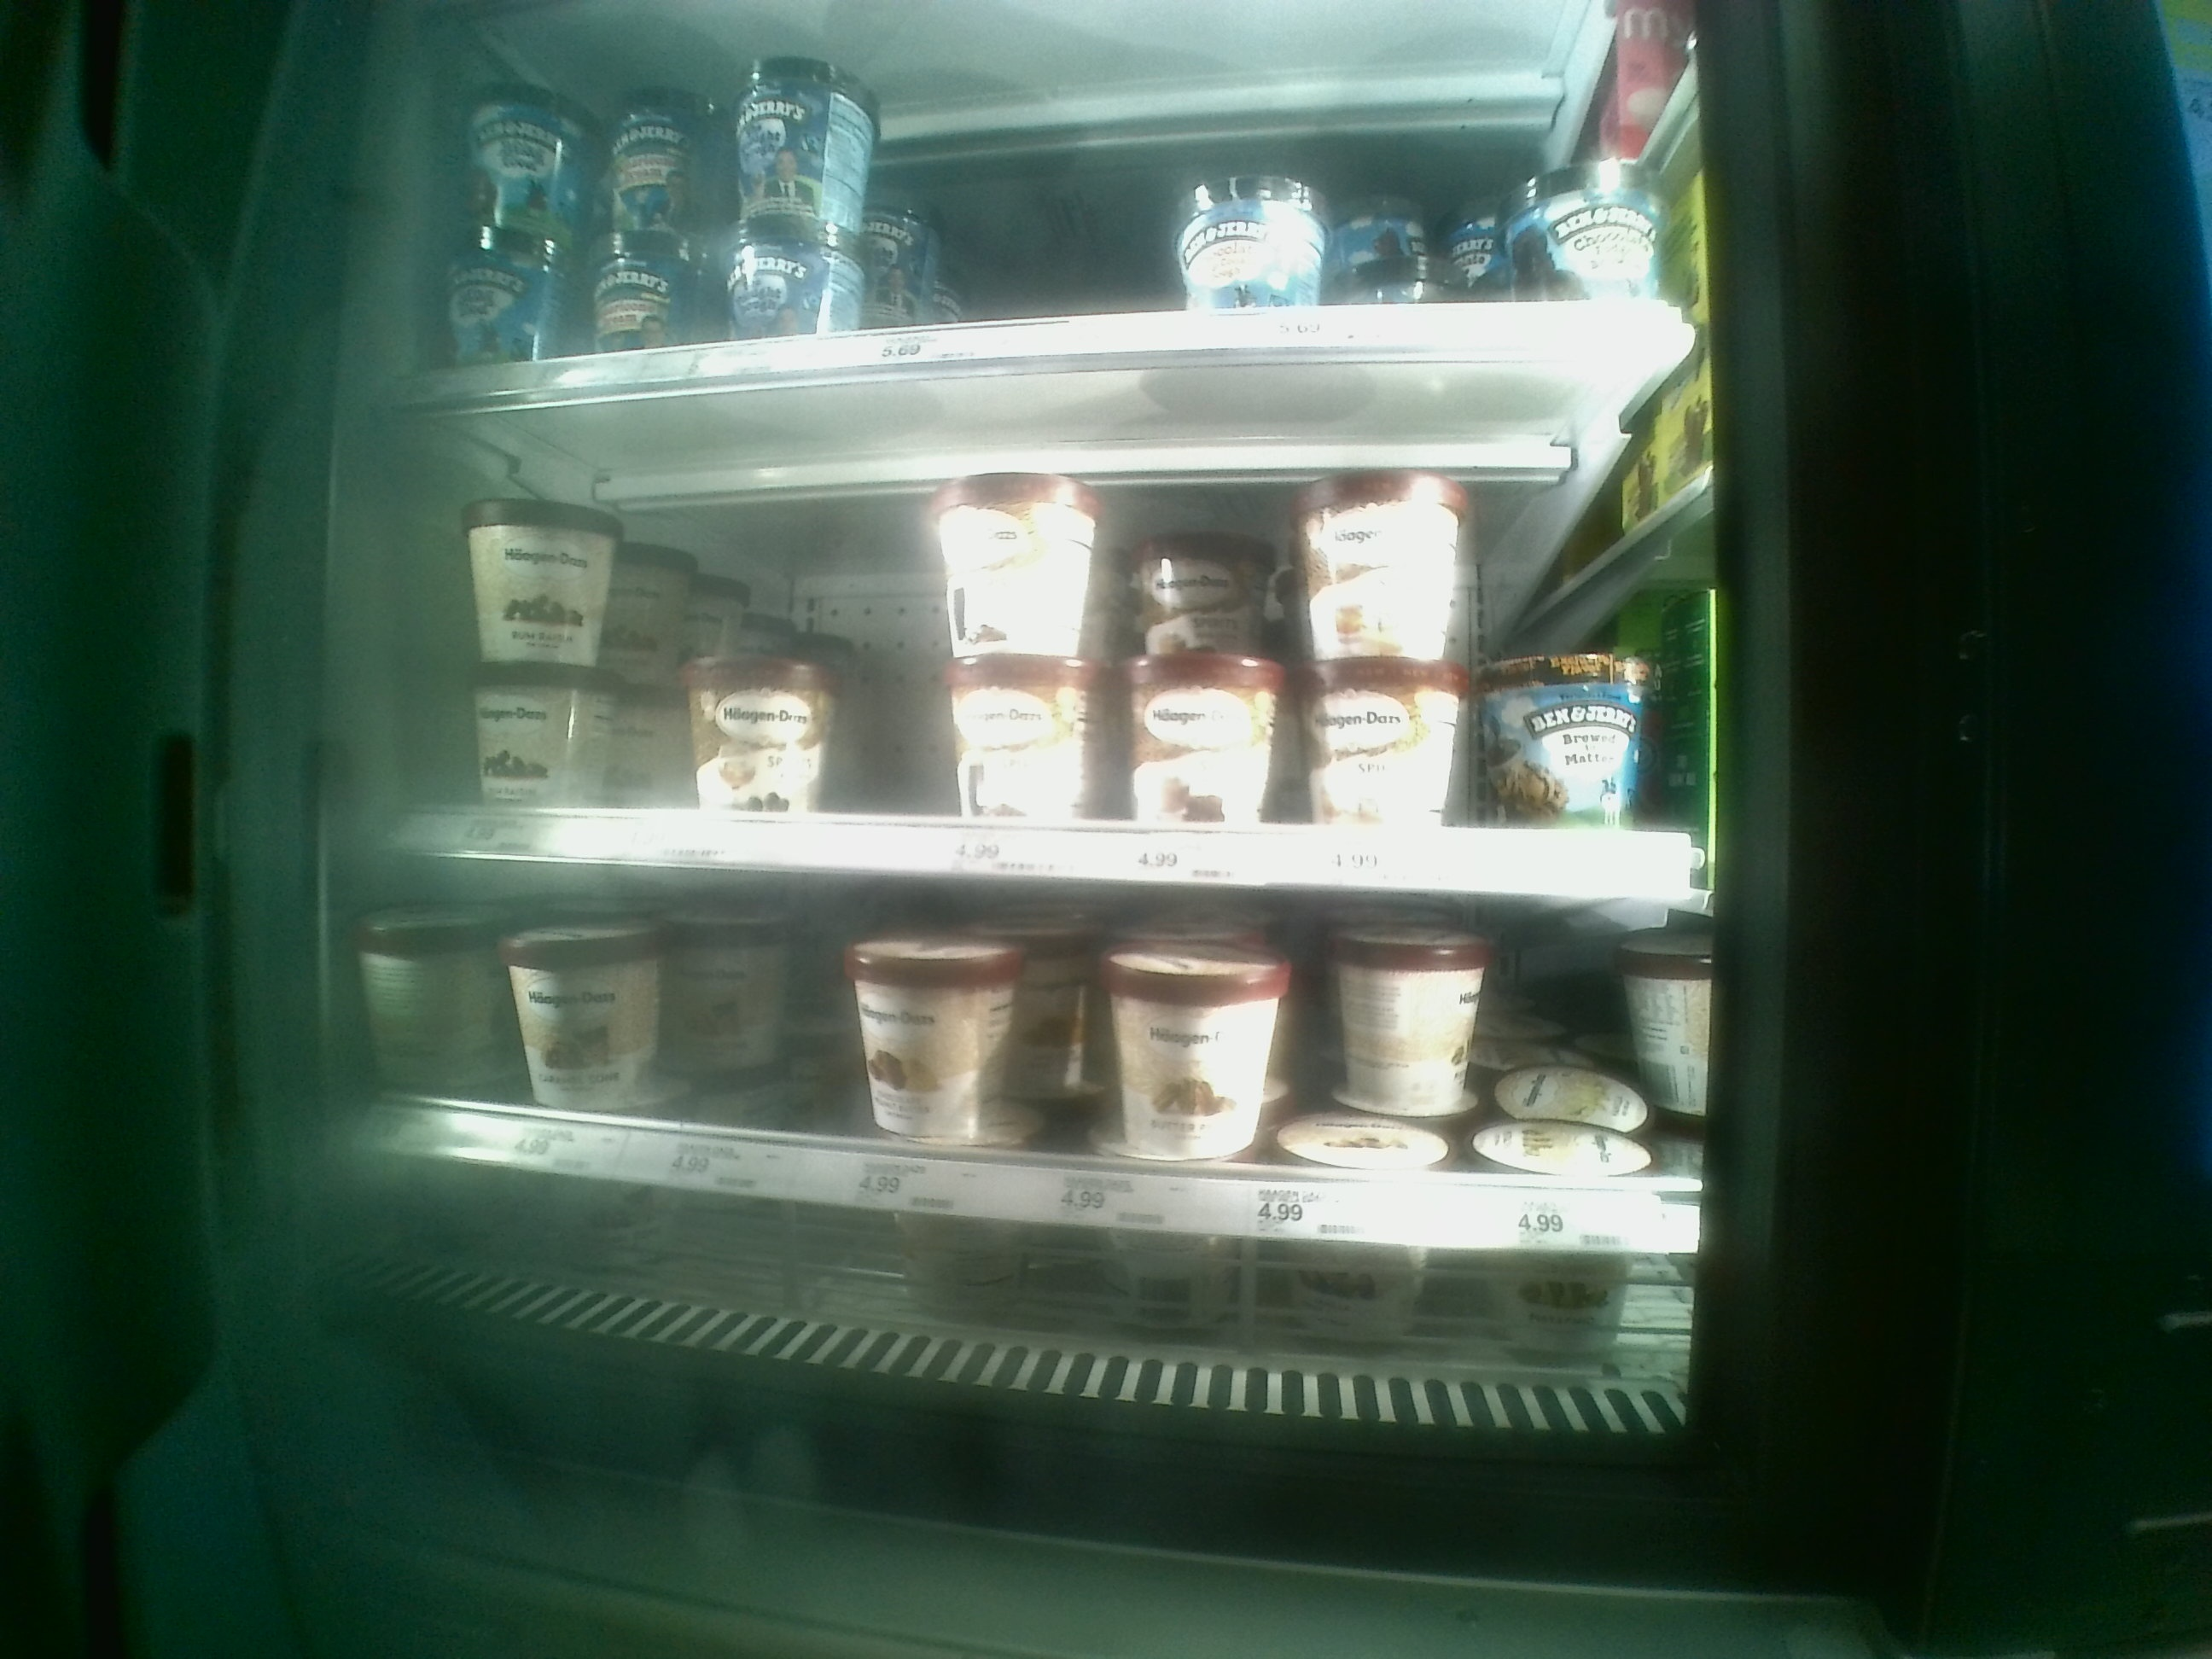shelf: (388, 864, 1719, 1422), (401, 357, 1719, 894)
